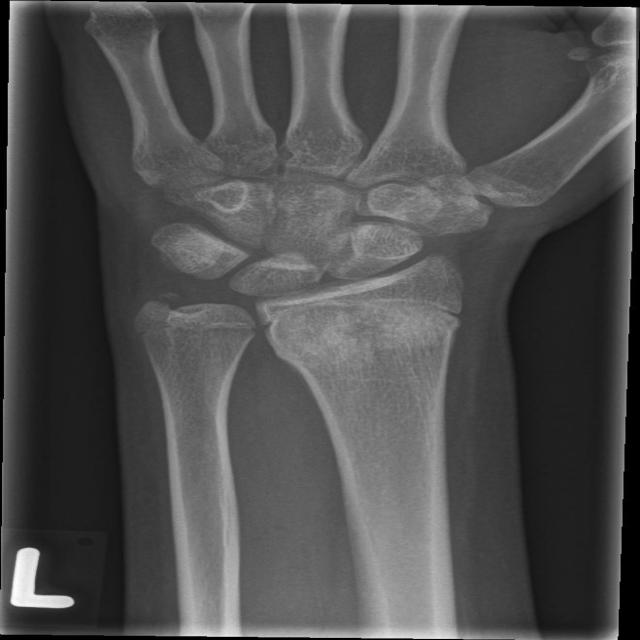fracture: (250, 290, 488, 336), (125, 302, 269, 348)
